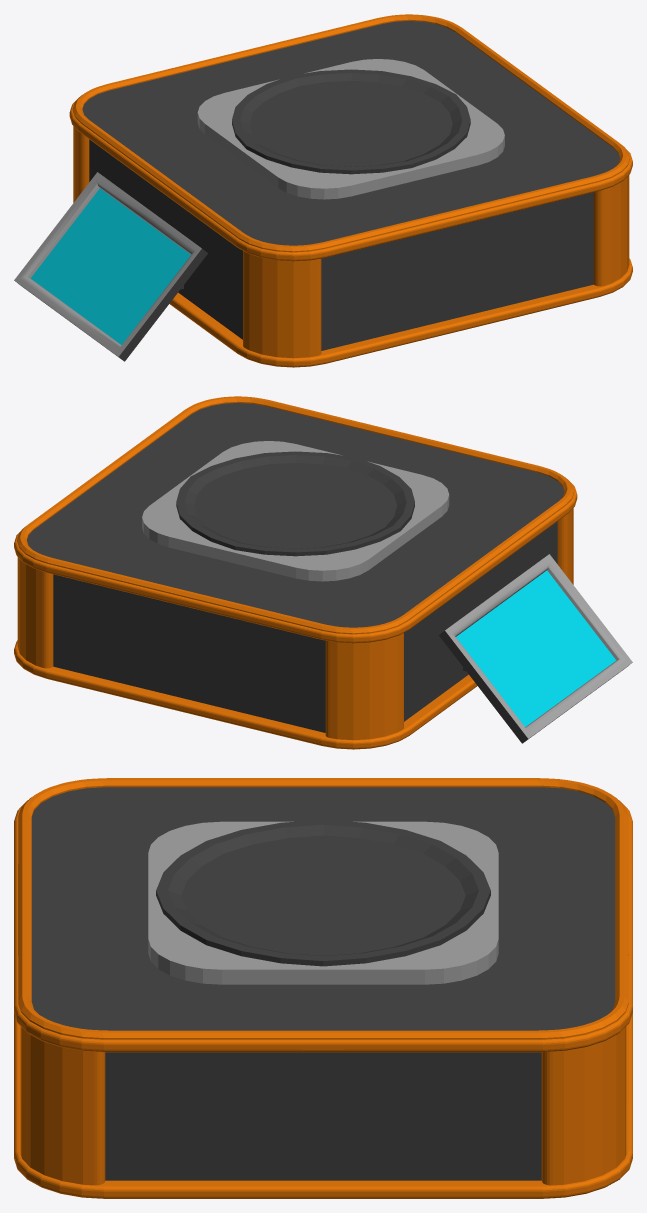
Rendered from ToolHolder.fbx.
3 views of the same model, one above another, from view 1: azimuth 30°, elevation 25°; view 2: azimuth 150°, elevation 25°; view 3: azimuth 270°, elevation 25° (orthographic). The views are drawn at different scales.
Parts seen in each view (by area): view 1: Cube, Screen; view 2: Cube, Screen; view 3: Cube.
Part boxes in pixels (x1=…): Cube: x1=69, y1=14, x2=632, y2=367; Screen: x1=14, y1=172, x2=207, y2=361; Cube: x1=14, y1=396, x2=577, y2=749; Screen: x1=439, y1=554, x2=632, y2=743; Cube: x1=14, y1=778, x2=632, y2=1198.
Size of the model in its own units: 13.09 by 3.54 by 10.6.
